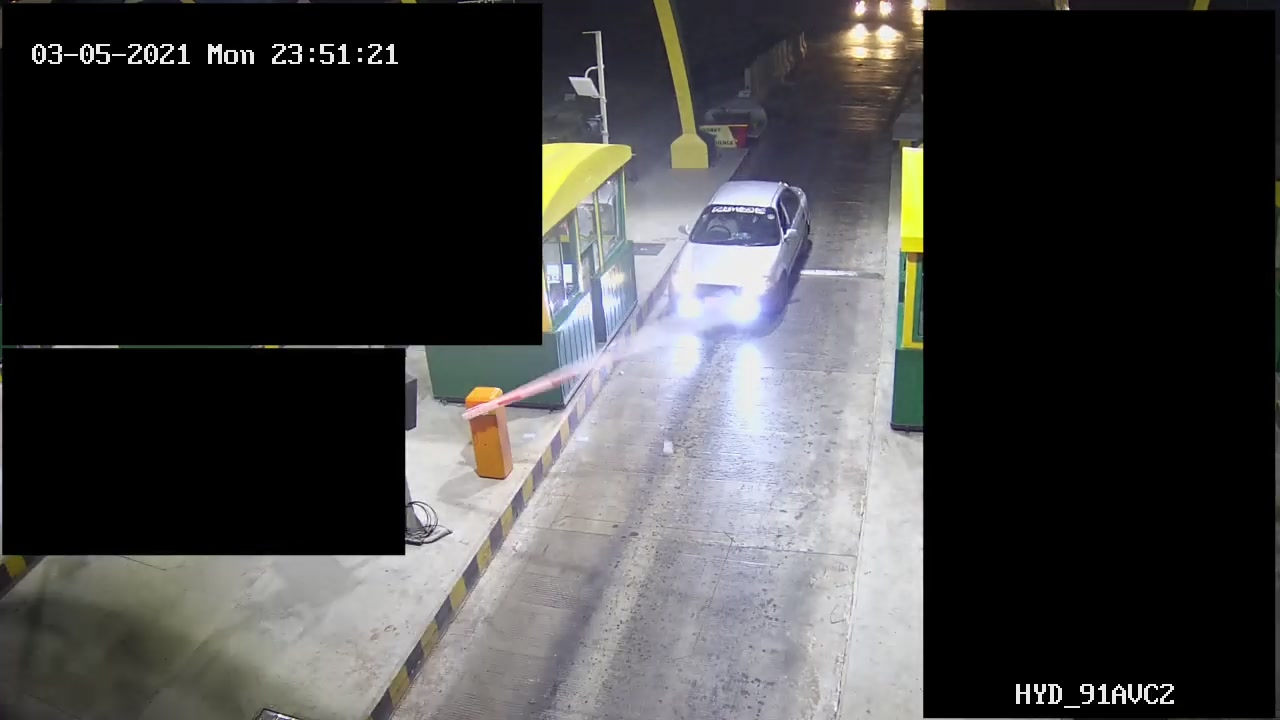F1: (662, 172, 825, 338)
